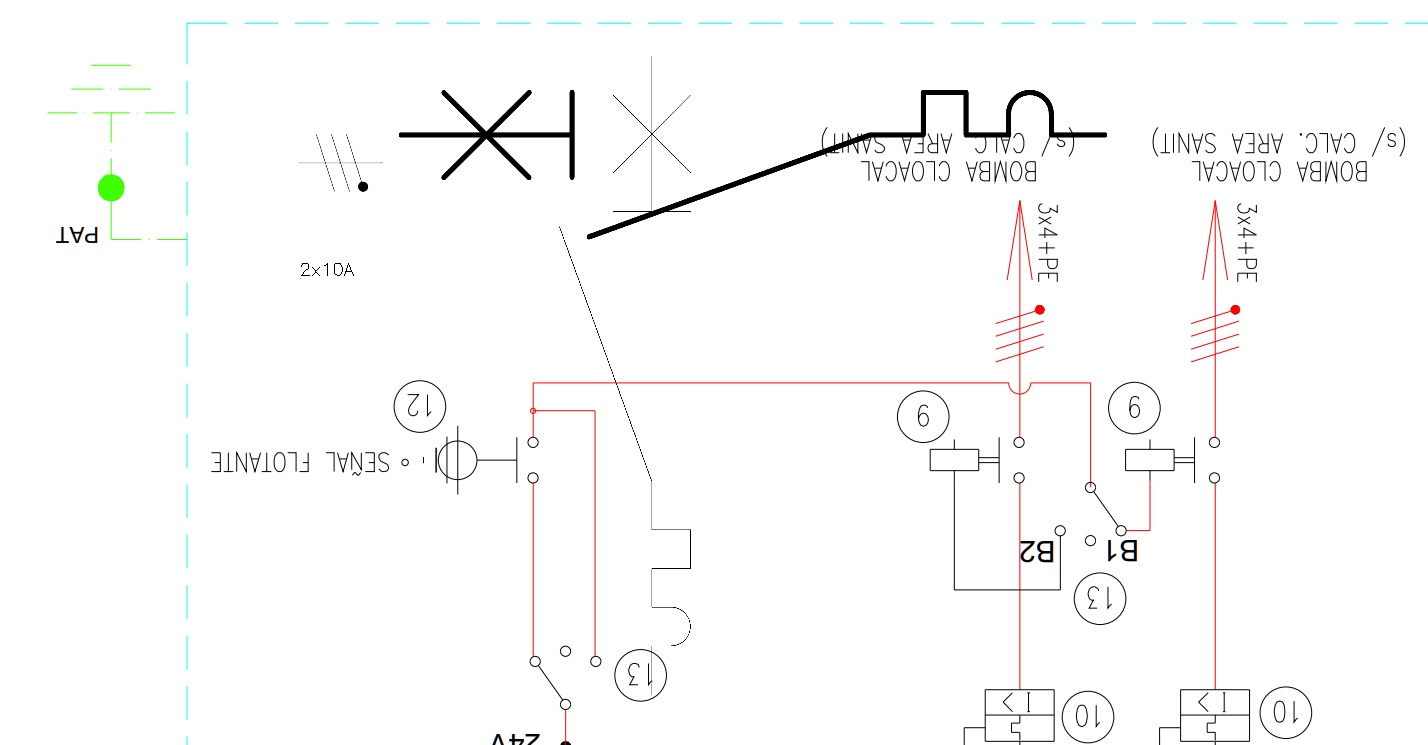interruptor_termomagnetico: (382, 74, 1122, 255), (543, 40, 707, 711)
